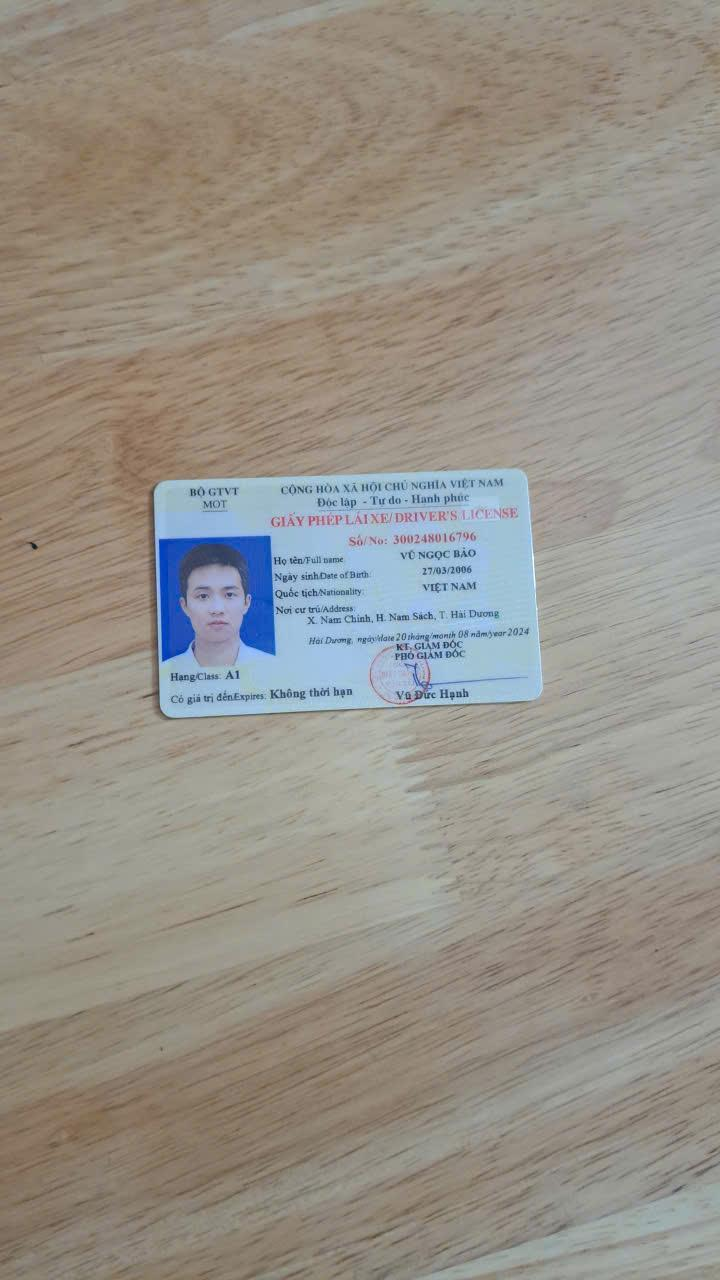gplx: (140, 463, 552, 728)
